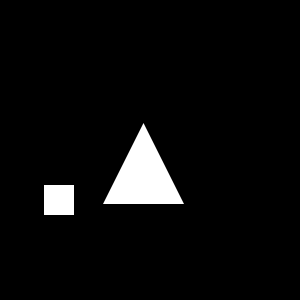circle: (44, 185, 74, 215)
triangle: (103, 123, 184, 204)
